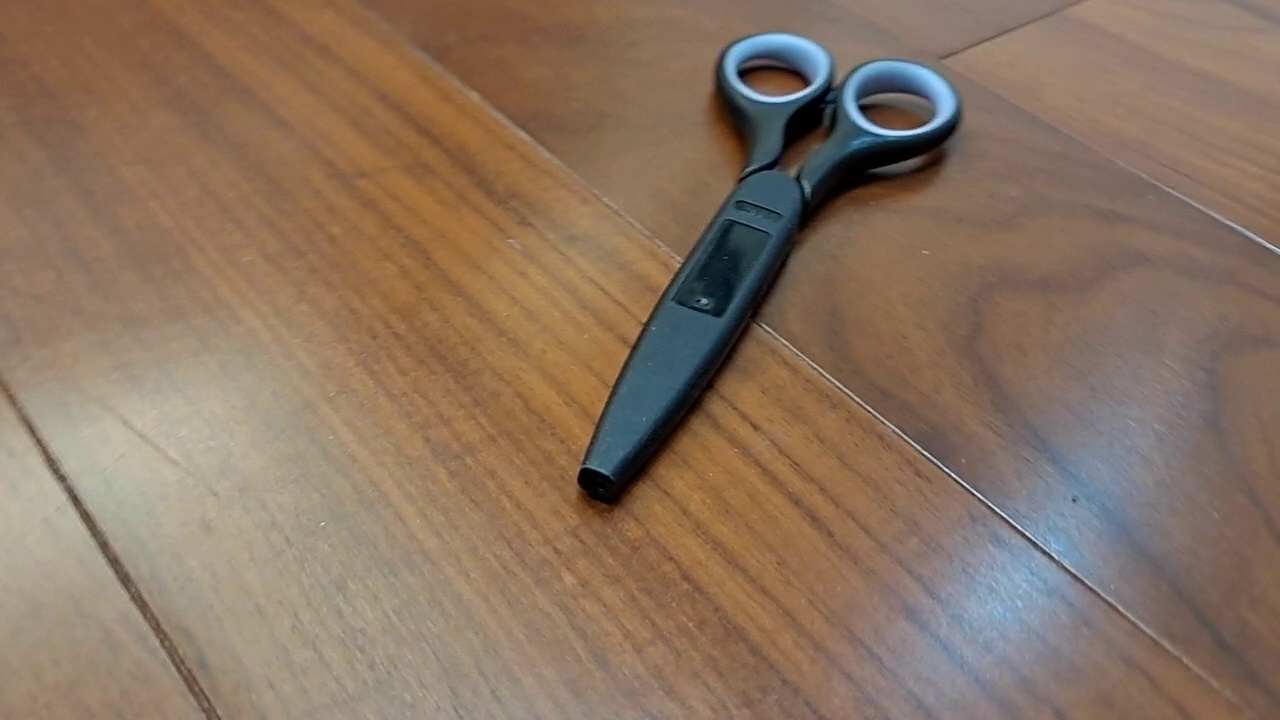scissors: (574, 28, 963, 507)
